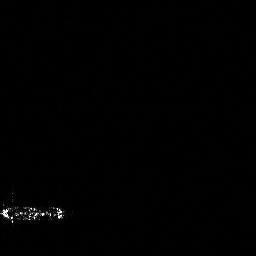ship: (1, 201, 68, 228)
